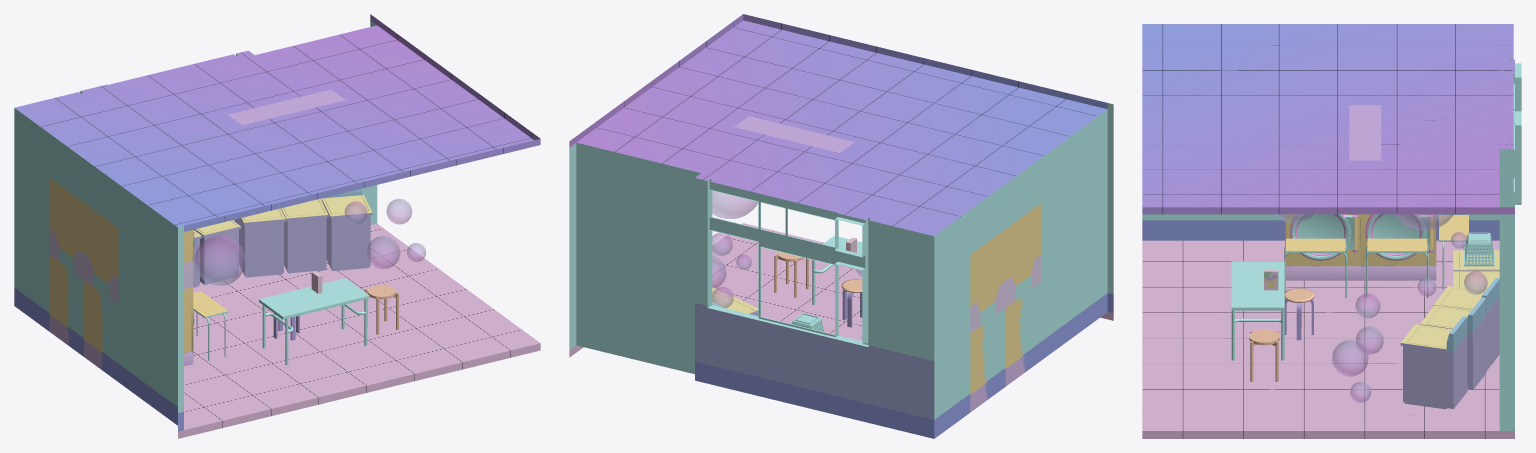
Rendered from Tanaka_Pop_Soda.fbx.
3 renders of one model, left to right at view 1: azimuth 30°, elevation 25°; view 2: azimuth 150°, elevation 25°; view 3: azimuth 270°, elevation 25°, orthographic. The views are drawn at different scales.
Visible parts, largest first — view 1: Room, Dryer8, pCube8, Big_Table1, Dryer7, Dryer6, pCube10, Dryer, pCube9, Bubble13, Light, pCube11 (+4 smaller); view 2: Room, pCube8, pCube10, Light, pCube9, pCube11, Bubble7, Bend_Leg_Chair, Thing_leg_Chair; view 3: Room, Dryer8, Big_Table1, Dryer7, pCube11, pCube9, polySurface14, polySurface13, Dryer6, Light, Tiny_Table7, Tiny_Table8 (+11 smaller).
Boxes of the visible parts, x1=… form: Room: x1=14, y1=14, x2=540, y2=438; Dryer8: x1=321, y1=188, x2=372, y2=270; pCube8: x1=84, y1=203, x2=193, y2=304; Big_Table1: x1=259, y1=278, x2=369, y2=365; Dryer7: x1=281, y1=198, x2=328, y2=273; Dryer6: x1=235, y1=208, x2=285, y2=277; pCube10: x1=49, y1=178, x2=83, y2=279; Dryer: x1=194, y1=220, x2=240, y2=284; pCube9: x1=84, y1=280, x2=193, y2=369; Bubble13: x1=195, y1=235, x2=245, y2=285; Light: x1=227, y1=89, x2=345, y2=125; pCube11: x1=49, y1=255, x2=69, y2=345; Room: x1=569, y1=14, x2=1113, y2=438; pCube8: x1=1005, y1=203, x2=1040, y2=307; pCube10: x1=970, y1=229, x2=1005, y2=333; Light: x1=734, y1=116, x2=854, y2=152; pCube9: x1=1005, y1=296, x2=1025, y2=386; pCube11: x1=970, y1=323, x2=988, y2=412; Bubble7: x1=712, y1=191, x2=758, y2=218; Bend_Leg_Chair: x1=841, y1=279, x2=862, y2=327; Thing_leg_Chair: x1=774, y1=251, x2=808, y2=297; Room: x1=1142, y1=24, x2=1521, y2=438; Dryer8: x1=1400, y1=316, x2=1467, y2=409; Big_Table1: x1=1231, y1=261, x2=1284, y2=360; Dryer7: x1=1420, y1=297, x2=1486, y2=390; pCube11: x1=1361, y1=214, x2=1436, y2=280; pCube9: x1=1285, y1=214, x2=1360, y2=280; polySurface14: x1=1290, y1=214, x2=1357, y2=260; polySurface13: x1=1365, y1=214, x2=1433, y2=260; Dryer6: x1=1433, y1=278, x2=1499, y2=370; Light: x1=1348, y1=105, x2=1381, y2=160; Tiny_Table7: x1=1284, y1=238, x2=1347, y2=297; Tiny_Table8: x1=1365, y1=238, x2=1428, y2=297.
Bounding box in the file's own units: 16.35 × 9.13 × 13.55.
